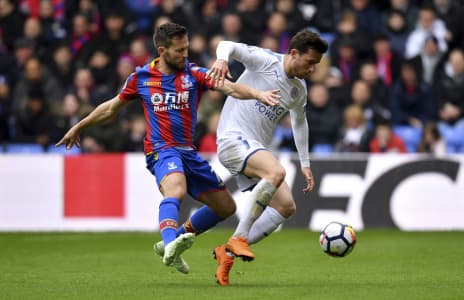soccer player: (50, 21, 236, 279), (210, 22, 320, 287)
soccerball: (320, 222, 357, 258)
